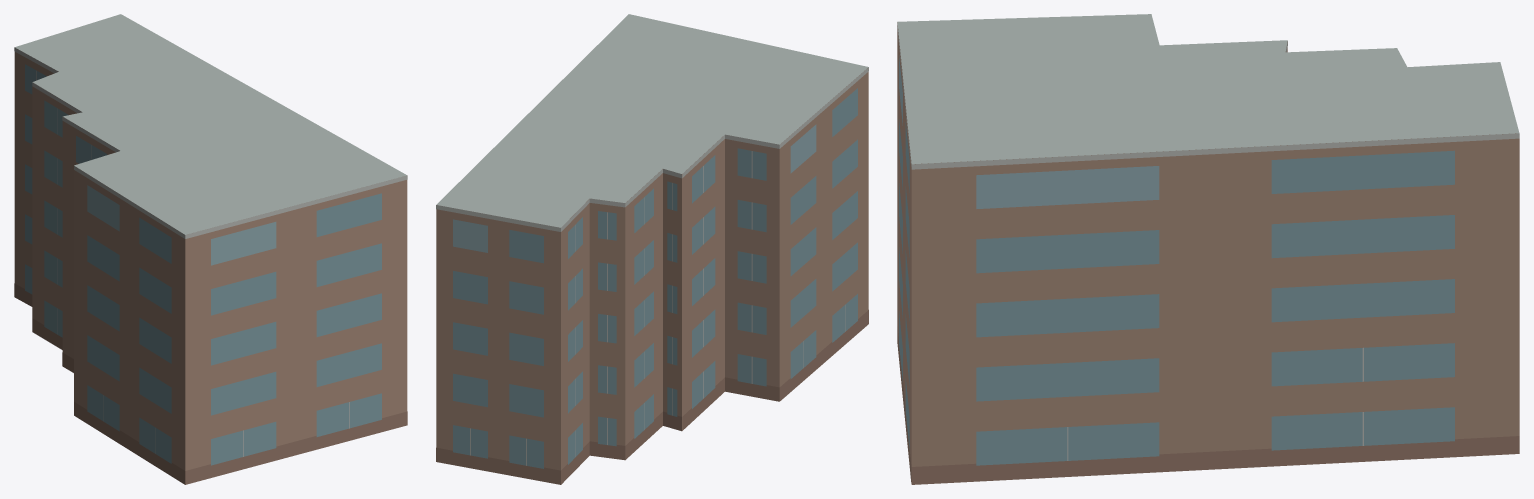
File: survey-upis-32561739.glb
The picture shows the model from 3 angles, left to right: view 1: azimuth 30°, elevation 25°; view 2: azimuth 150°, elevation 25°; view 3: azimuth 270°, elevation 25°; orthographic projection. The views are drawn at different scales.
Visible parts, largest first — view 1: survey-upis-32561739.tmp; view 2: survey-upis-32561739.tmp; view 3: survey-upis-32561739.tmp.
Part boxes in pixels (x1,y1,x2,y2): survey-upis-32561739.tmp: (14,14,407,484); survey-upis-32561739.tmp: (436,14,868,484); survey-upis-32561739.tmp: (897,14,1519,484).
Bounding box in the file's own units: 14.64 × 14.55 × 25.6.
